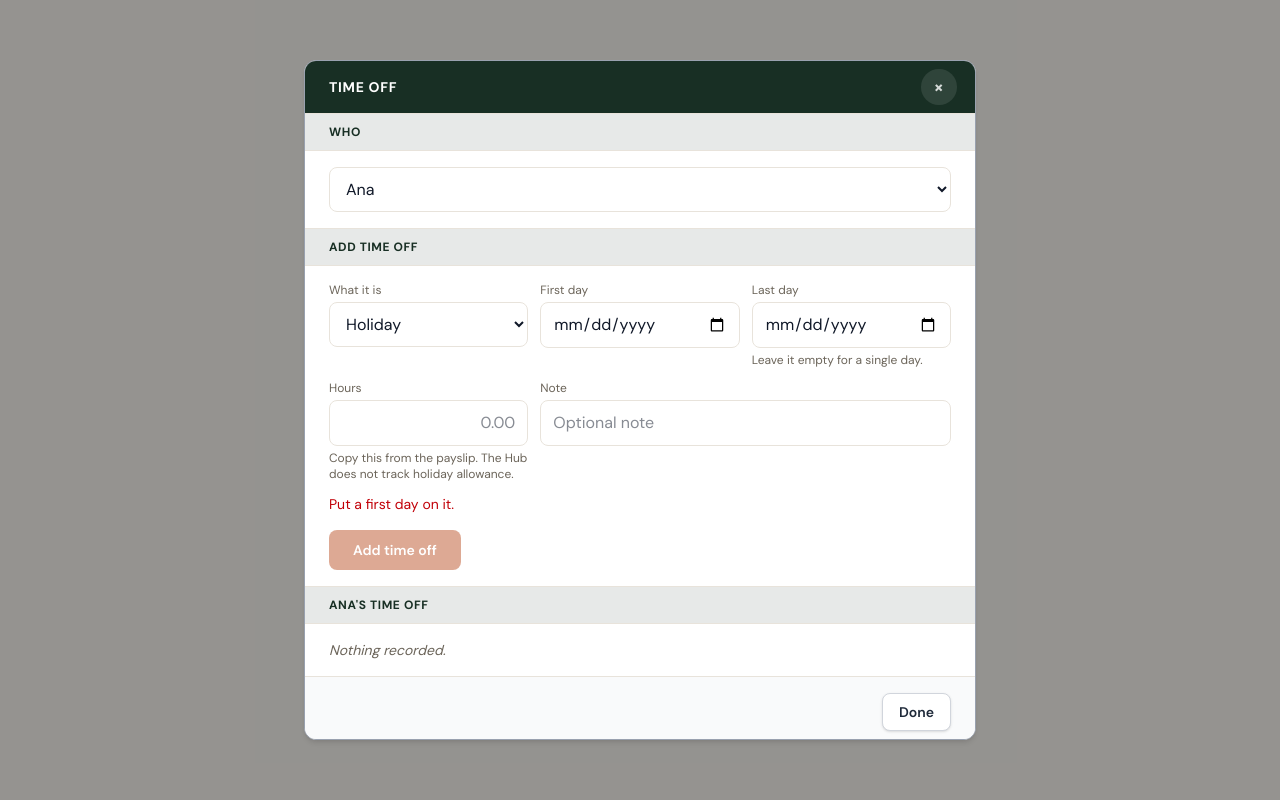
Test case: freeing the days it lands on › leaves the shifts alone when the time off could not be written
The width and height of the screenshot is (1280, 800).
Type "2026-10-12" into the 1st date field.
click(640, 325); type("2026-10-12")  # box [540,302,740,348]
(page scrolled)
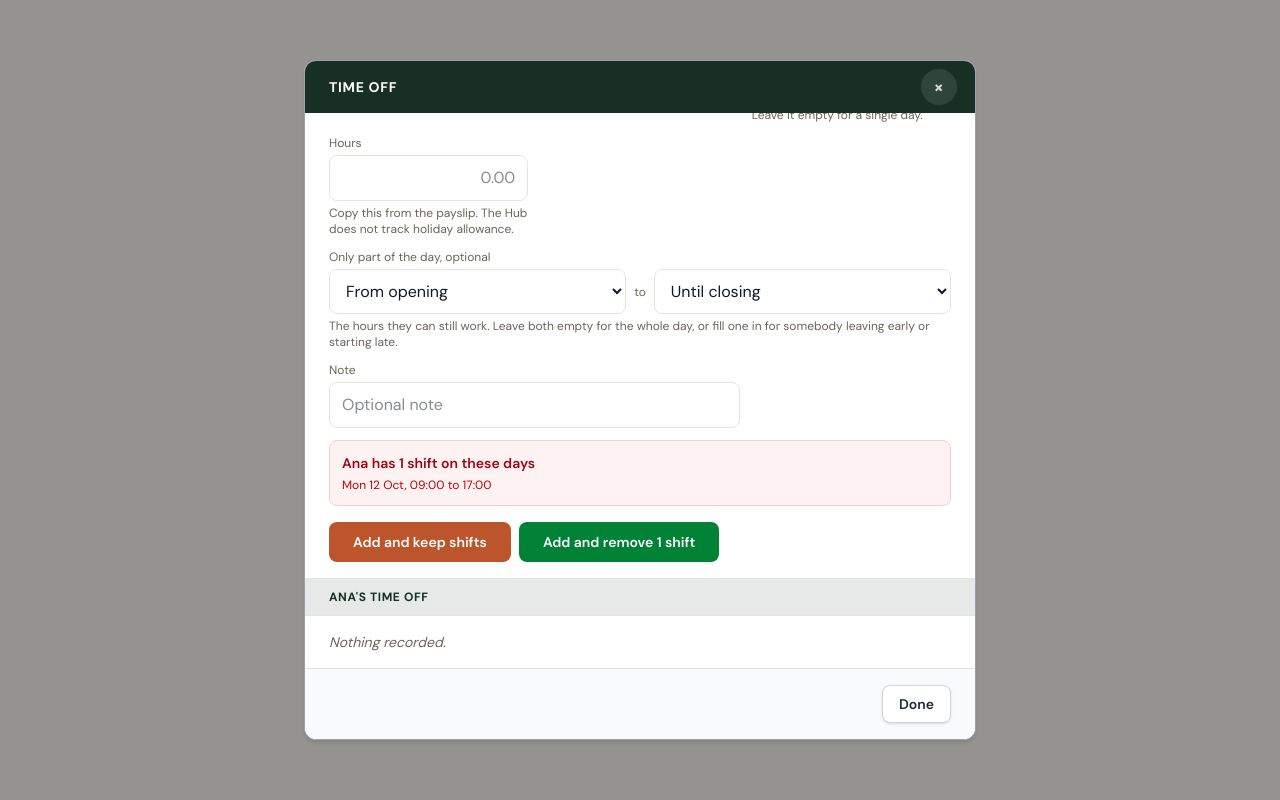
Click the button "Add and remove 1 shift".
click(619, 542)  # box [519,522,719,562]
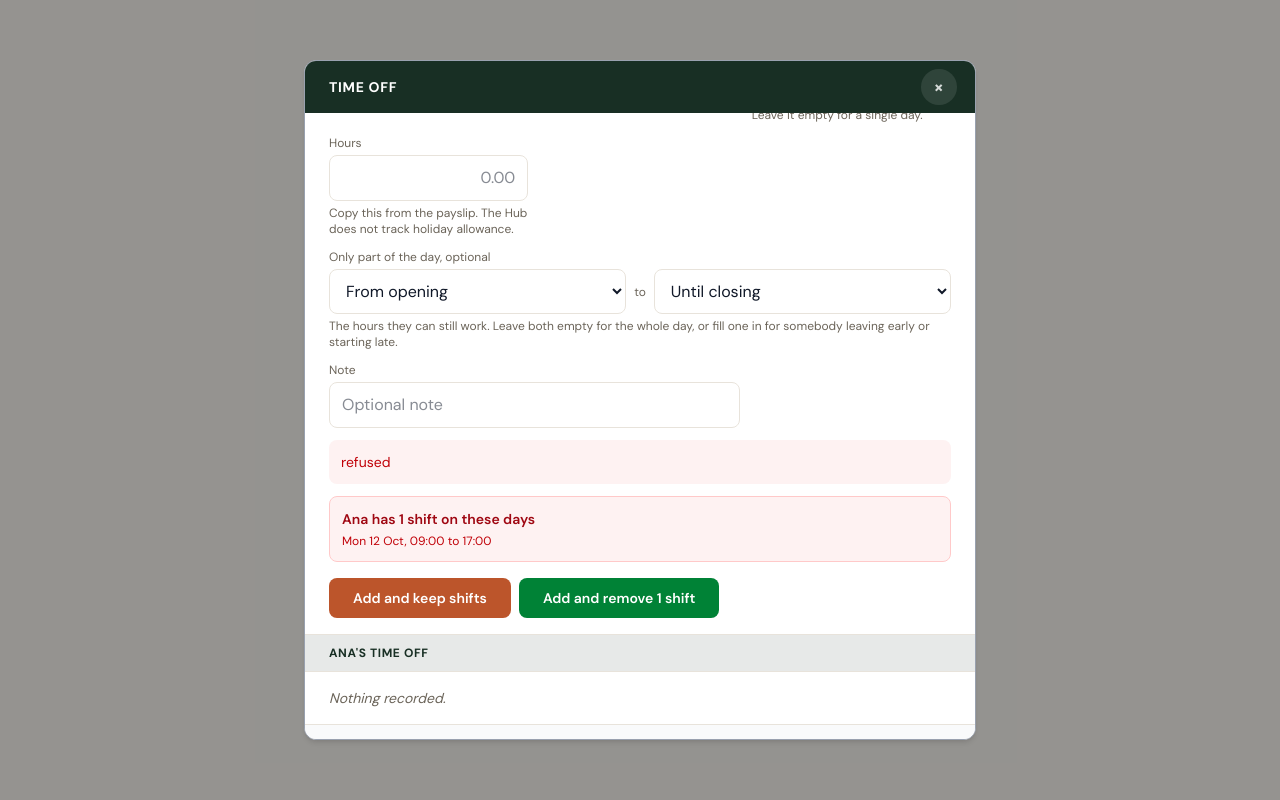
Expected: the text "refused" is shown, [329,440,951,484]
